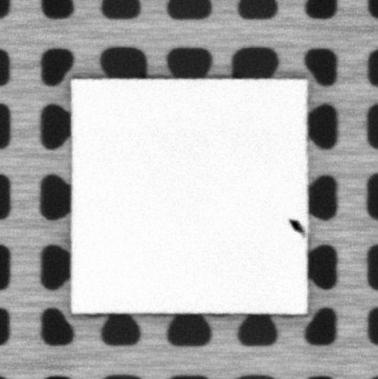DIE_INK: (288, 216, 303, 235)
